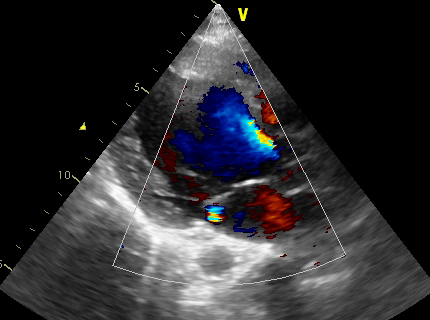MR: (204, 183, 236, 221)
